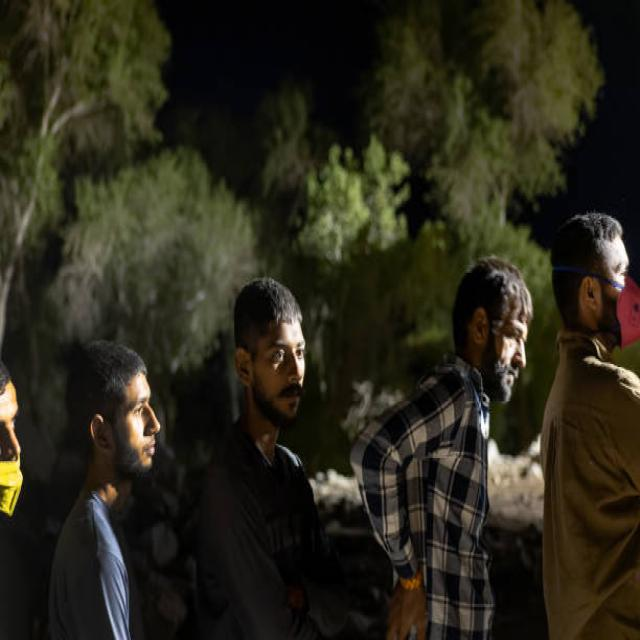civilian: (351, 257, 532, 638), (198, 278, 335, 638), (542, 213, 639, 638), (48, 340, 159, 638), (0, 361, 35, 638), (0, 513, 39, 638)
